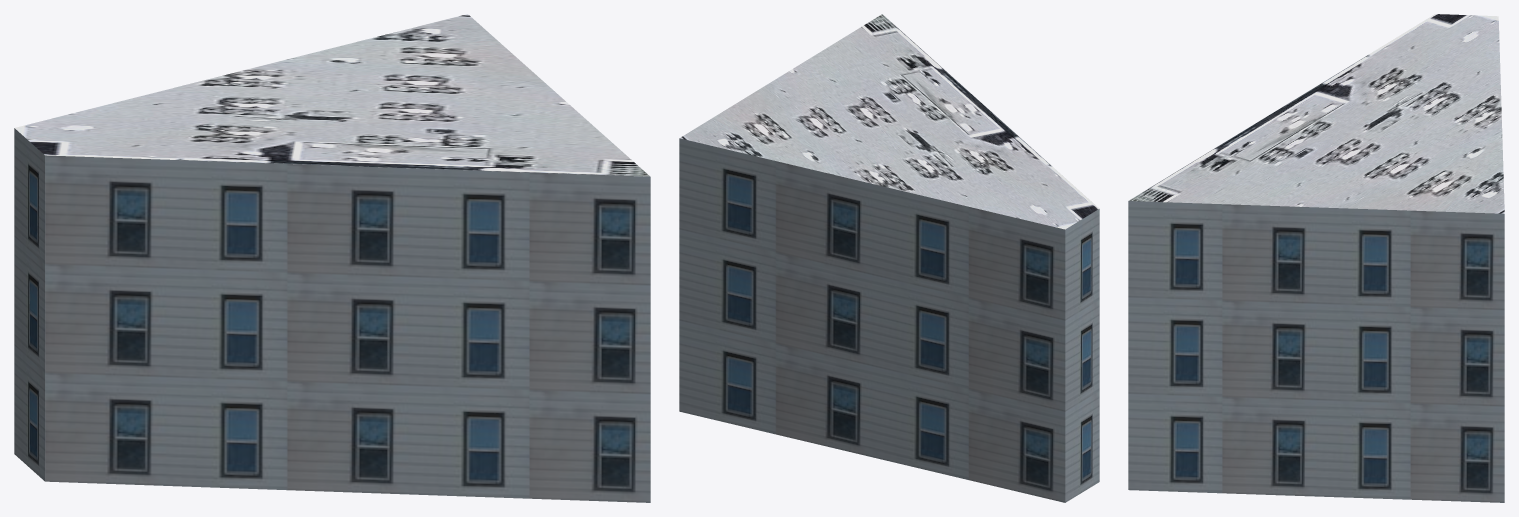
Rendered from ResTex__2429.fbx.
3 renders of one model, left to right at view 1: azimuth 30°, elevation 25°; view 2: azimuth 150°, elevation 25°; view 3: azimuth 270°, elevation 25°, orthographic. The views are drawn at different scales.
Parts seen in each view (by area): view 1: CityEngineMaterial_18_m, CityEngineMaterial_4_m; view 2: CityEngineMaterial_18_m, CityEngineMaterial_4_m; view 3: CityEngineMaterial_18_m, CityEngineMaterial_4_m.
Part boxes in pixels (x1=…): CityEngineMaterial_18_m: x1=14, y1=128, x2=650, y2=502; CityEngineMaterial_4_m: x1=15, y1=14, x2=649, y2=176; CityEngineMaterial_18_m: x1=679, y1=138, x2=1099, y2=502; CityEngineMaterial_4_m: x1=680, y1=14, x2=1099, y2=229; CityEngineMaterial_18_m: x1=1128, y1=201, x2=1504, y2=502; CityEngineMaterial_4_m: x1=1128, y1=14, x2=1504, y2=213.
Bounding box in the file's own units: 13.34 × 9 × 10.62.
2 materials, 2 textured.
